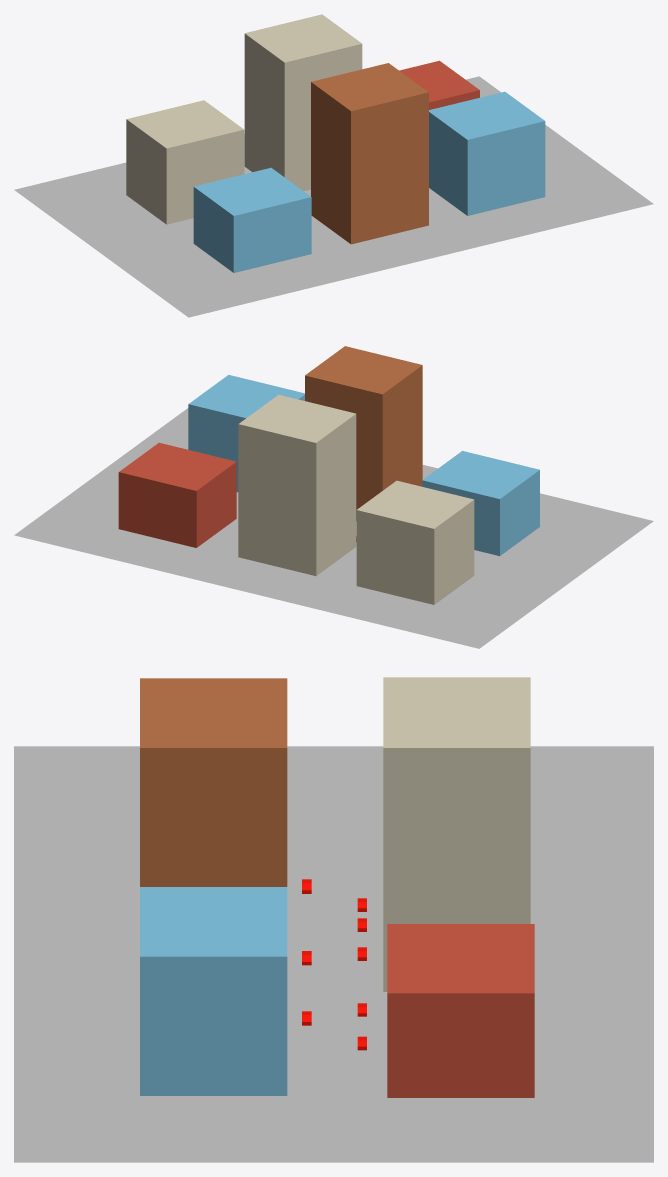
Rendered from simple_street_canyon_with_cars.glb.
The picture shows the model from 3 angles, top to bottom: view 1: azimuth 30°, elevation 25°; view 2: azimuth 150°, elevation 25°; view 3: azimuth 270°, elevation 25°; orthographic projection. The views are drawn at different scales.
Visible parts, largest first — view 1: floor, building_6, building_4, building_5, building_3, building_1, building_2; view 2: floor, building_4, building_3, building_6, building_2, building_1, building_5; view 3: floor, building_4, building_5, building_6, building_2.
Boxes of the visible parts, x1,y1,x2,y2 form: floor: (14, 76, 653, 317); building_6: (311, 63, 428, 244); building_4: (244, 14, 362, 191); building_5: (429, 91, 545, 215); building_3: (126, 100, 244, 224); building_1: (193, 167, 311, 272); building_2: (399, 60, 479, 109); floor: (14, 408, 653, 648); building_4: (238, 394, 356, 575); building_3: (356, 480, 474, 604); building_6: (305, 346, 422, 520); building_2: (118, 442, 236, 547); building_1: (422, 451, 539, 556); building_5: (188, 375, 304, 492); floor: (14, 746, 653, 1162); building_4: (383, 678, 530, 991); building_5: (140, 887, 287, 1095); building_6: (140, 678, 287, 886); building_2: (387, 924, 534, 1097).
Size of the model in its own units: 186 by 50.97 by 121.
